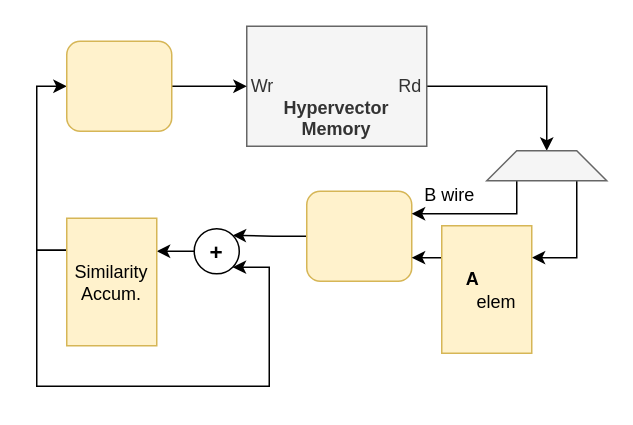
Some shapes in this 633 by 425 pixel diagram are drawn without their labels. The centre of each missing label's shape, as x and y in pixels:
Final Formatting: point (118, 85)
Single-Dimenison Similarity Metric: point (358, 235)
